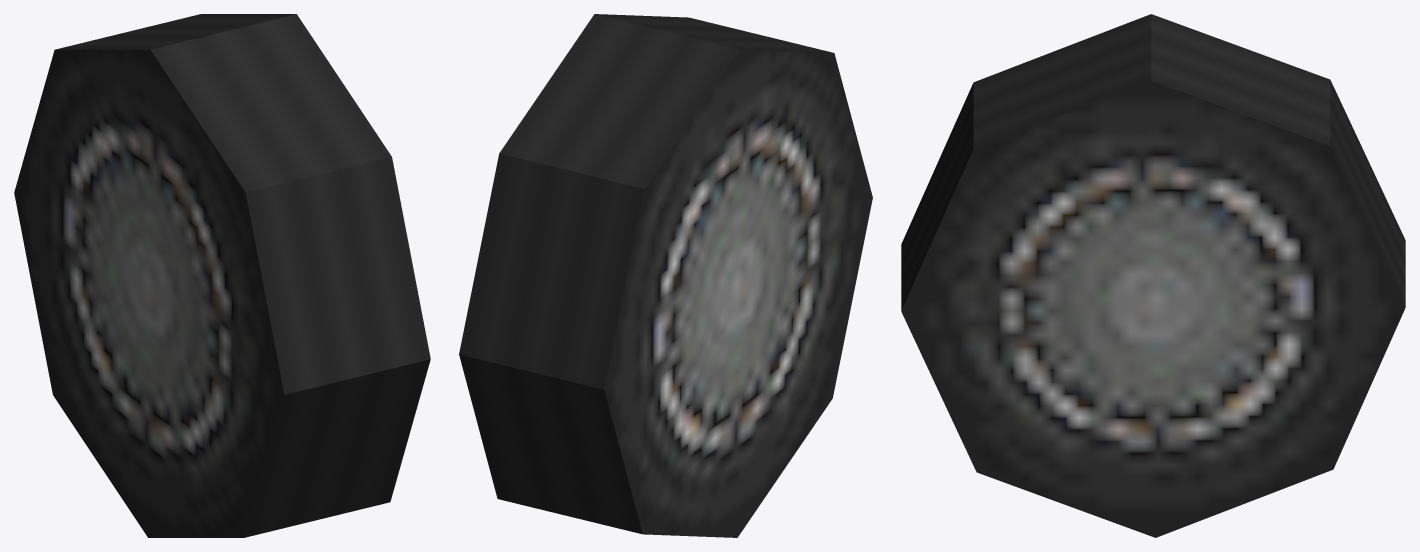
Rendered from Wheel2.obj.
3 renders of one model, left to right at view 1: azimuth 30°, elevation 25°; view 2: azimuth 150°, elevation 25°; view 3: azimuth 270°, elevation 25°, orthographic. The views are drawn at different scales.
Parts seen in each view (by area): view 1: Car2.001; view 2: Car2.001; view 3: Car2.001.
Boxes of the visible parts, box(x1,y1,x2,y2) form: Car2.001: box(14, 14, 430, 537); Car2.001: box(459, 14, 872, 537); Car2.001: box(901, 14, 1405, 537).
Bounding box in the file's own units: 0.2894 × 0.9263 × 0.9263.
Materials: 1 (1 with a texture image).
